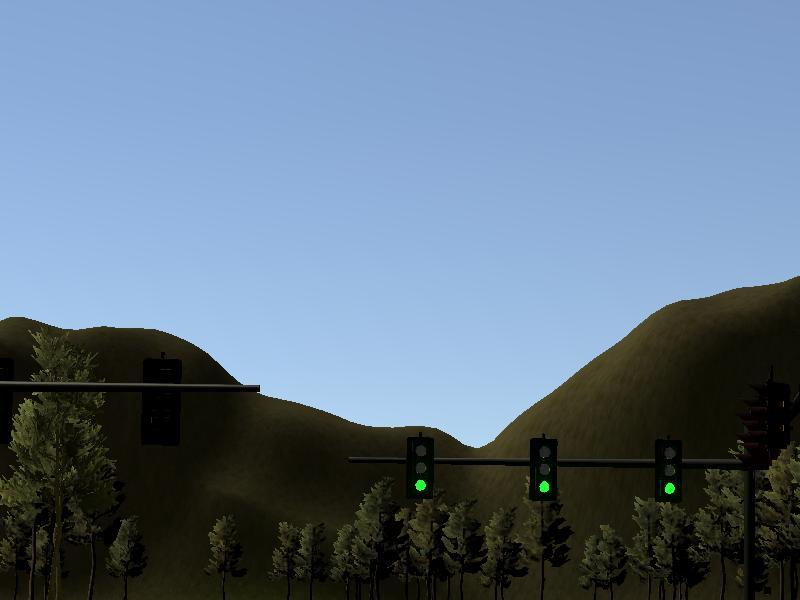Green: (656, 438, 684, 501), (528, 437, 556, 500), (406, 438, 434, 501)
